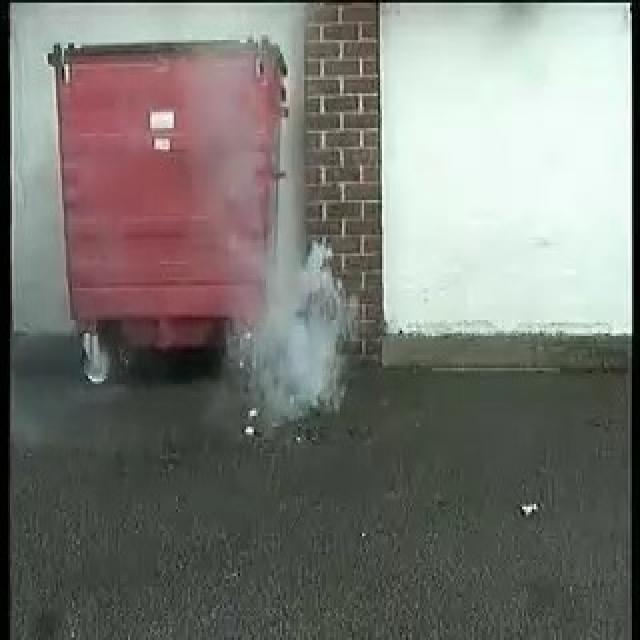smoke: (241, 239, 361, 414)
